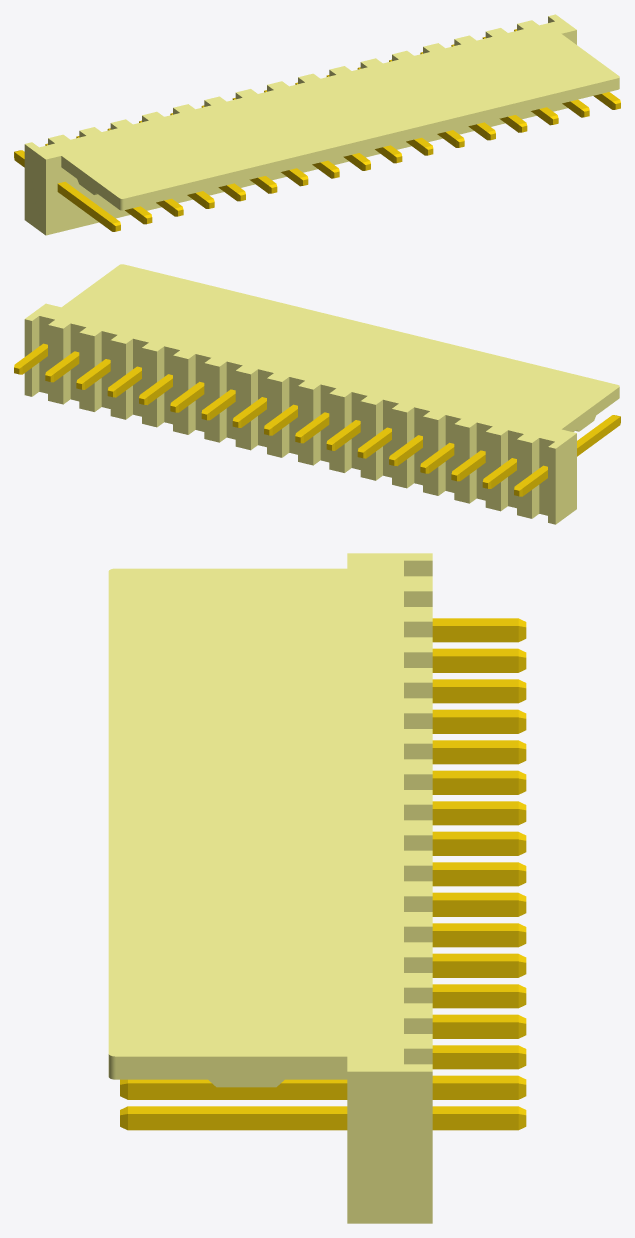
File: DS1070-17 (WF-17 CONNFLY).obj
3 views of the same model, one above another, from view 1: azimuth 30°, elevation 25°; view 2: azimuth 150°, elevation 25°; view 3: azimuth 270°, elevation 25° (orthographic). The views are drawn at different scales.
Parts seen in each view (by area): view 1: DS1070-17_(WF-17_CONNFLY); view 2: DS1070-17_(WF-17_CONNFLY); view 3: DS1070-17_(WF-17_CONNFLY).
Part boxes in pixels (x1,y1,x2,y2): DS1070-17_(WF-17_CONNFLY): (14, 14, 620, 235); DS1070-17_(WF-17_CONNFLY): (14, 264, 620, 524); DS1070-17_(WF-17_CONNFLY): (108, 553, 526, 1223).
Size of the model in its own units: 0.0287 by 0.00392 by 0.00977.
